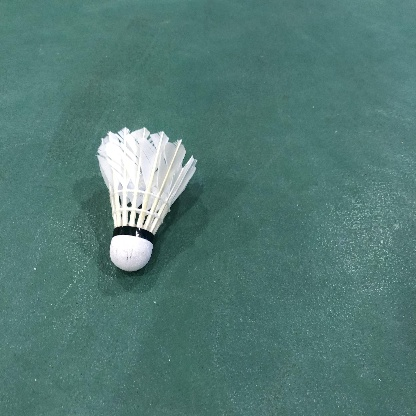ball_single: (97, 127, 197, 272)
